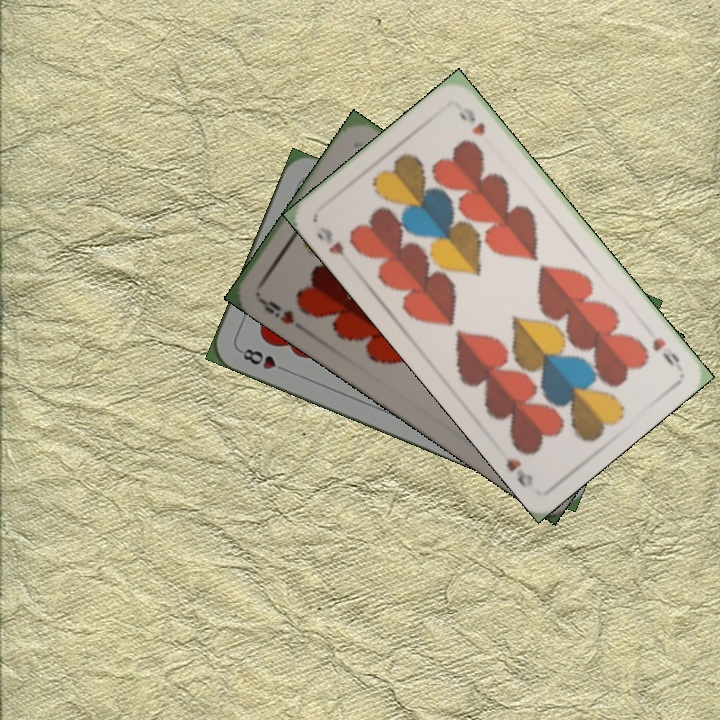H8: (235, 344, 292, 375)
H9: (313, 222, 355, 268), (254, 293, 297, 327), (648, 333, 684, 372)
